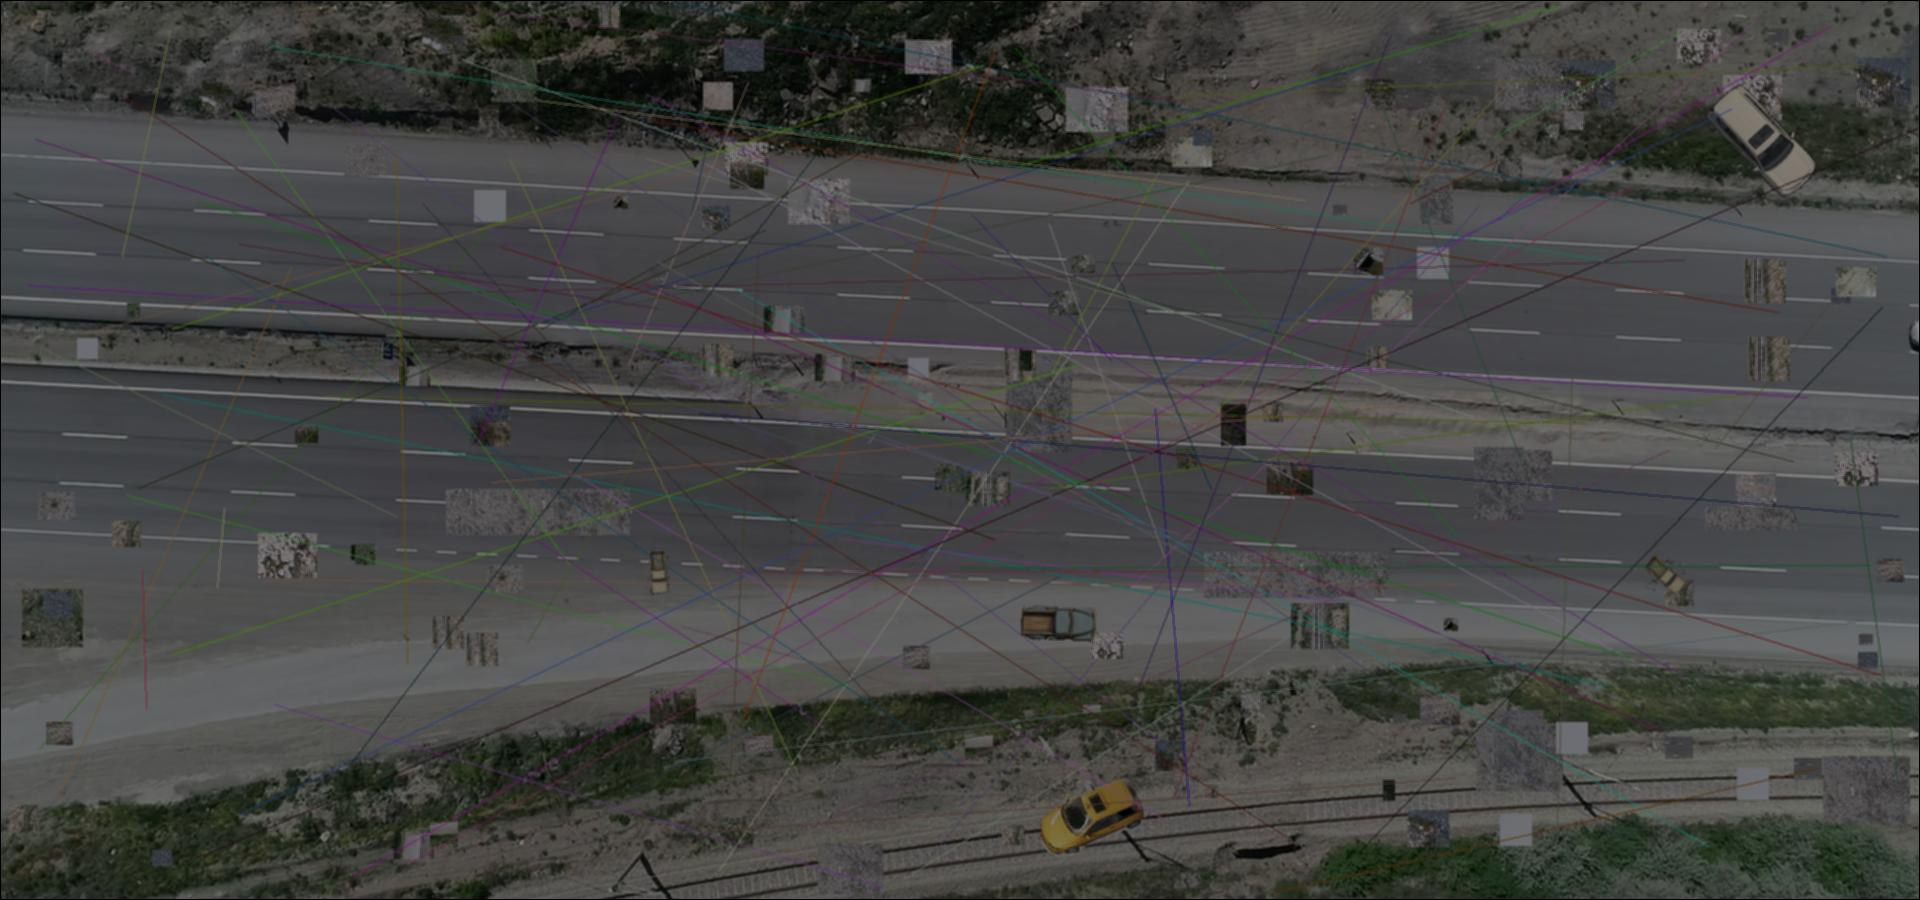arac: (1708, 76, 1817, 196), (1041, 775, 1149, 860), (1020, 604, 1096, 643), (1643, 553, 1686, 596), (647, 550, 670, 595)
